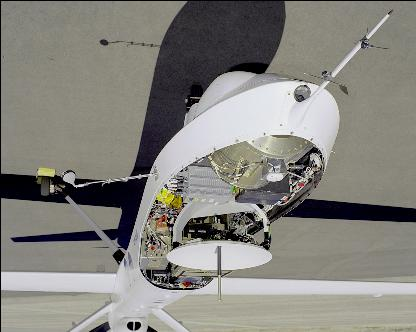MQ9: (1, 6, 416, 331)
